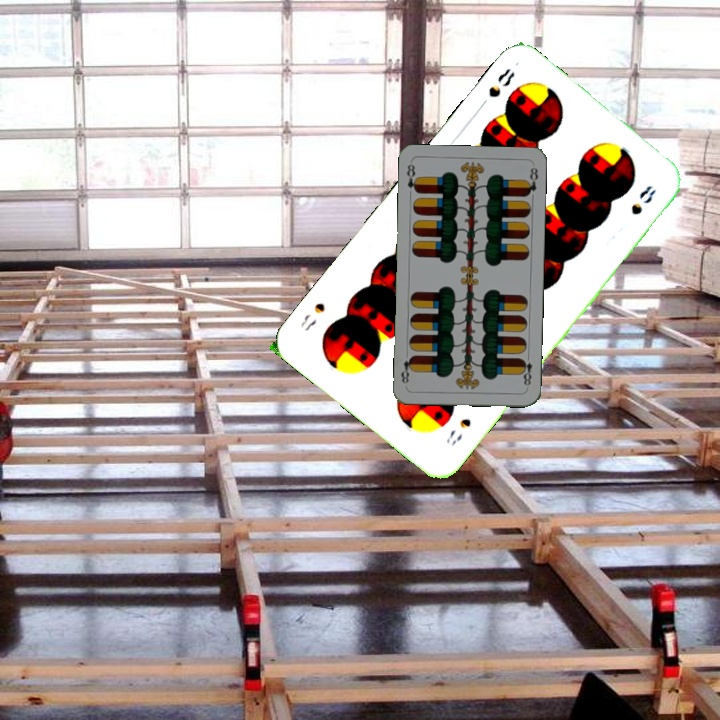E8: (517, 350, 535, 391), (402, 160, 421, 195)
S8: (474, 64, 518, 112), (442, 414, 474, 449)
